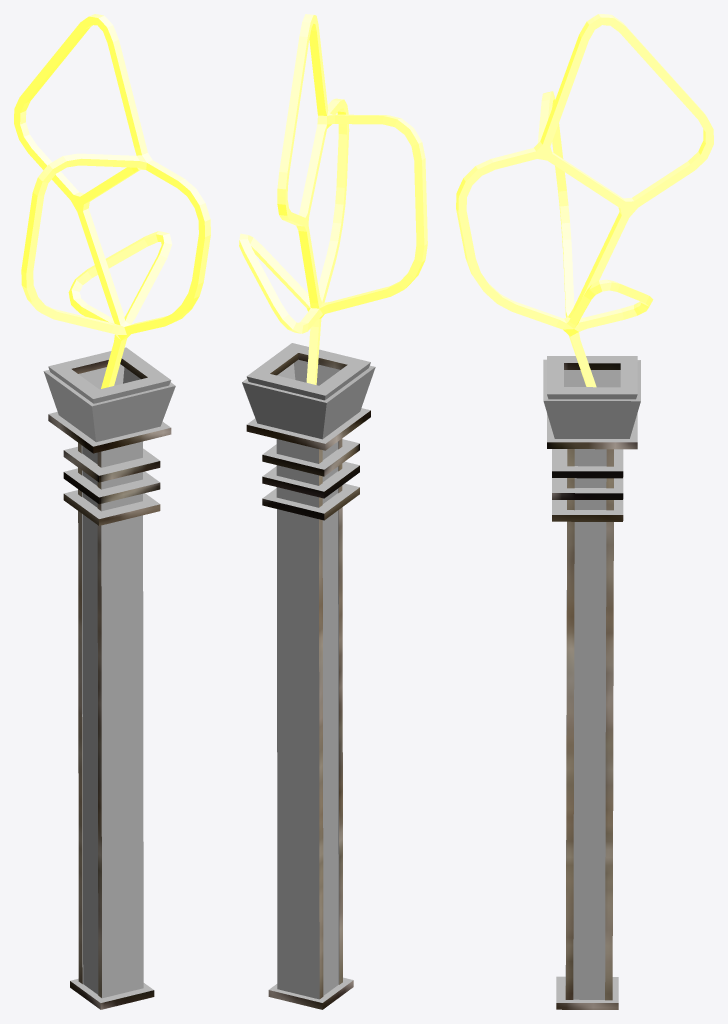
Rendered from Nichrome Saber 1.fbx.
3 renders of one model, left to right at view 1: azimuth 30°, elevation 25°; view 2: azimuth 150°, elevation 25°; view 3: azimuth 270°, elevation 25°, orthographic.
Parts seen in each view (by area): view 1: Nichrome_Saber_1; view 2: Nichrome_Saber_1; view 3: Nichrome_Saber_1.
Boxes of the visible parts, <box> form: Nichrome_Saber_1: <box>14,14,210,1009</box>; Nichrome_Saber_1: <box>239,14,427,1009</box>; Nichrome_Saber_1: <box>456,14,713,1009</box>.
Size of the model in its own units: 77.7 by 437 by 104.
